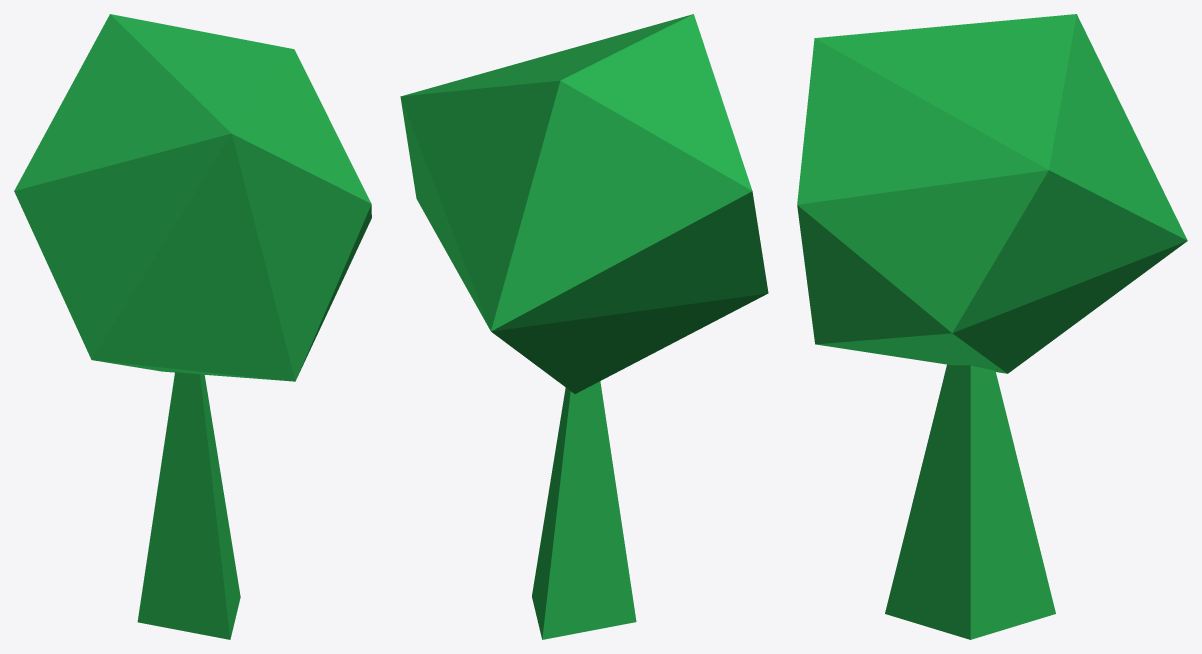
The model's file is arbolito.fbx.
The picture shows the model from 3 angles, left to right: view 1: azimuth 30°, elevation 25°; view 2: azimuth 150°, elevation 25°; view 3: azimuth 270°, elevation 25°; orthographic projection. The views are drawn at different scales.
Parts seen in each view (by area): view 1: Tronco; view 2: Tronco; view 3: Tronco.
Part boxes in pixels (left/top/right/bottom): Tronco: left=14, top=14, right=371, bottom=639; Tronco: left=400, top=14, right=768, bottom=639; Tronco: left=797, top=14, right=1187, bottom=639.
Bounding box in the file's own units: 481 × 755 × 456.
